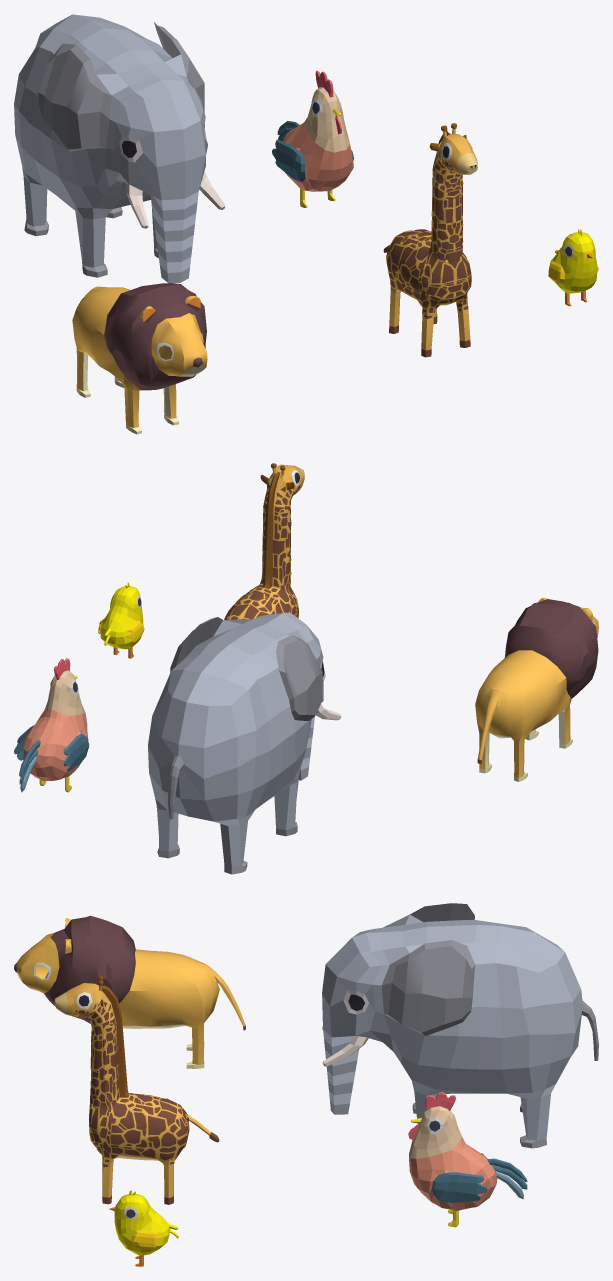
File: animals.glb
3 renders of one model, top to bottom at view 1: azimuth 30°, elevation 25°; view 2: azimuth 150°, elevation 25°; view 3: azimuth 270°, elevation 25°, orthographic. The views are drawn at different scales.
Parts seen in each view (by area): view 1: Elephant, Lion, Giraffe, Rooster, Chick; view 2: Elephant, Lion, Rooster, Giraffe, Chick; view 3: Elephant, Lion, Giraffe, Rooster, Chick.
Part boxes in pixels (x1,y1,x2,y2): Elephant: [14, 14, 225, 282]; Lion: [72, 283, 207, 434]; Giraffe: [383, 123, 477, 357]; Rooster: [272, 70, 354, 207]; Chick: [548, 229, 598, 306]; Elephant: [148, 612, 341, 874]; Lion: [475, 597, 598, 781]; Rooster: [14, 658, 89, 792]; Giraffe: [224, 463, 304, 619]; Chick: [98, 582, 144, 658]; Elephant: [322, 903, 598, 1148]; Lion: [14, 915, 245, 1068]; Giraffe: [54, 976, 219, 1204]; Rooster: [408, 1092, 527, 1227]; Chick: [109, 1190, 178, 1266].
Bounding box in the file's own units: 6.83 × 2.96 × 7.28.
